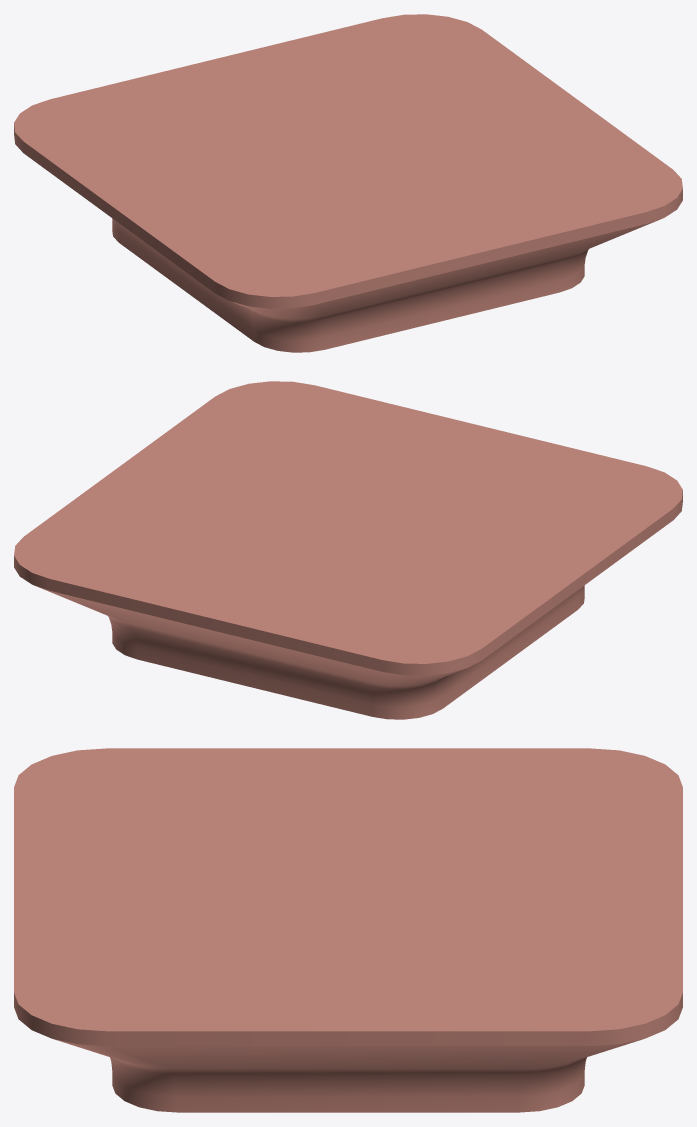
Rendered from RoundedTowerBigTop01.fbx.
3 views of the same model, one above another, from view 1: azimuth 30°, elevation 25°; view 2: azimuth 150°, elevation 25°; view 3: azimuth 270°, elevation 25° (orthographic). The views are drawn at different scales.
Visible parts, largest first — view 1: RoundedTowerBigTop01.002; view 2: RoundedTowerBigTop01.002; view 3: RoundedTowerBigTop01.002.
Part boxes in pixels (left/top/right/bottom): RoundedTowerBigTop01.002: left=14, top=14, right=682, bottom=352; RoundedTowerBigTop01.002: left=14, top=381, right=682, bottom=719; RoundedTowerBigTop01.002: left=14, top=748, right=682, bottom=1112.
Size of the model in its own units: 2123 by 430 by 2123.
